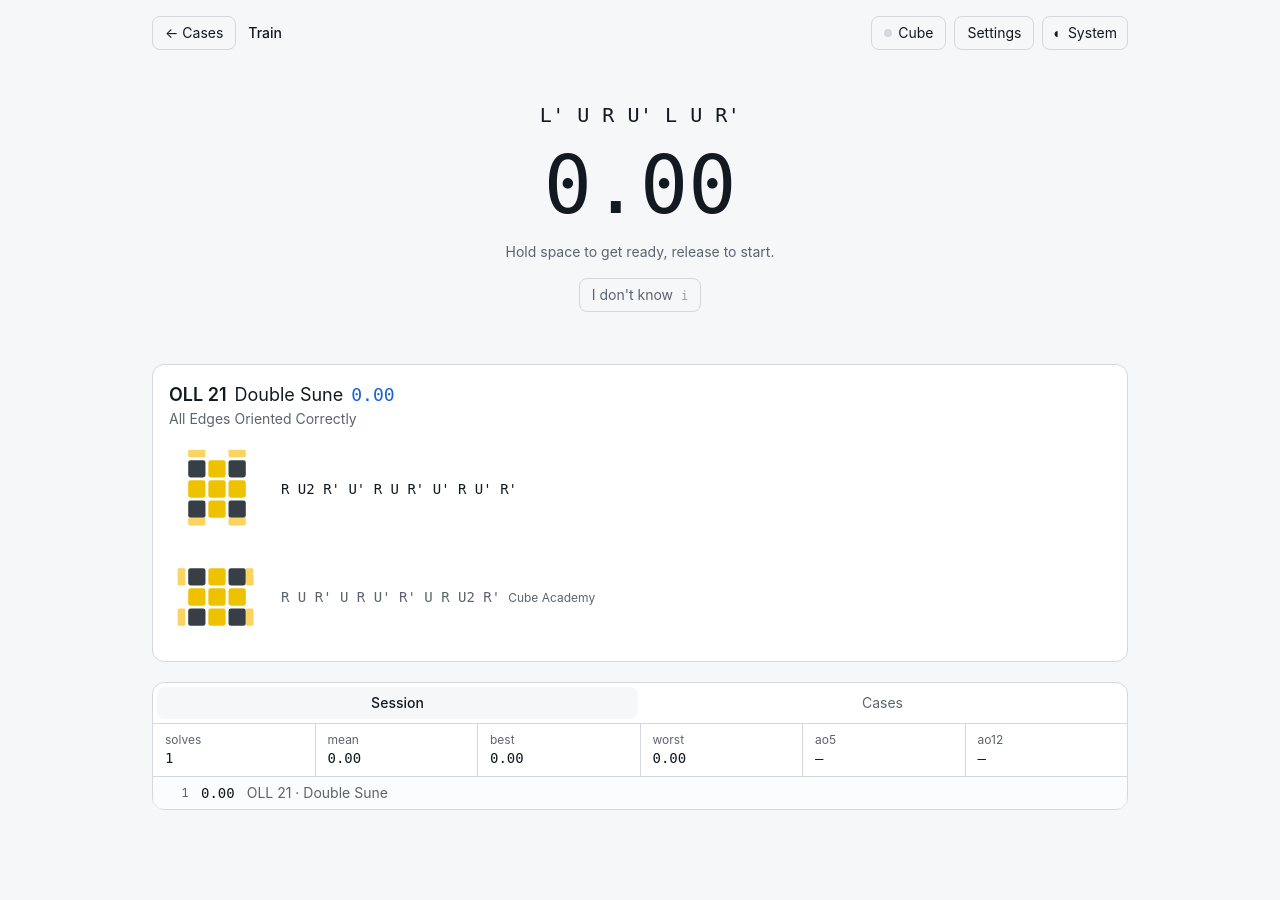
Test: PracticeView › disarms the reset when the settings panel closes
The width and height of the screenshot is (1280, 900).
Click the button with test id "settings-toggle": (994, 33) [954, 16, 1034, 50]
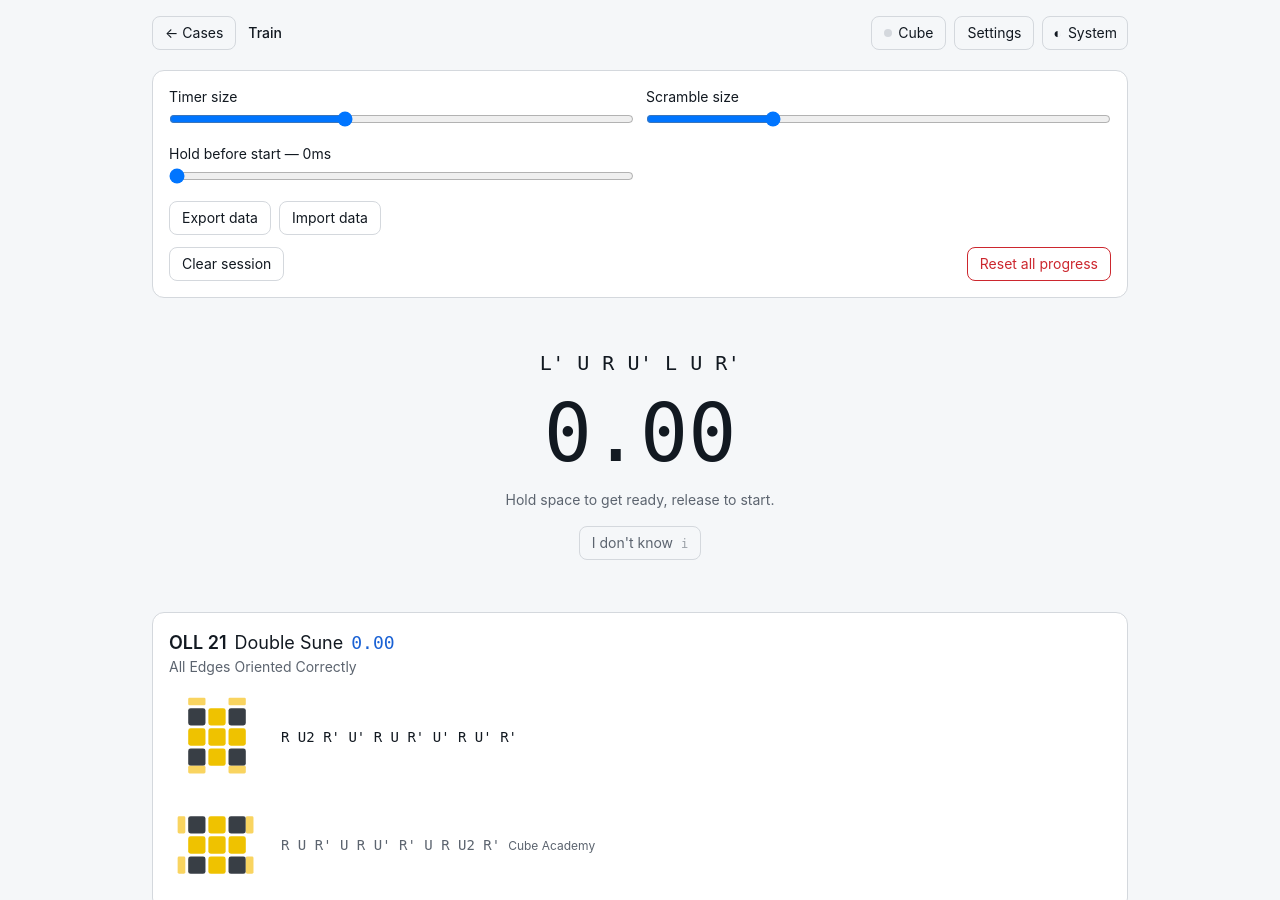
Click the button with test id "reset-progress": (1039, 264) [967, 247, 1111, 281]
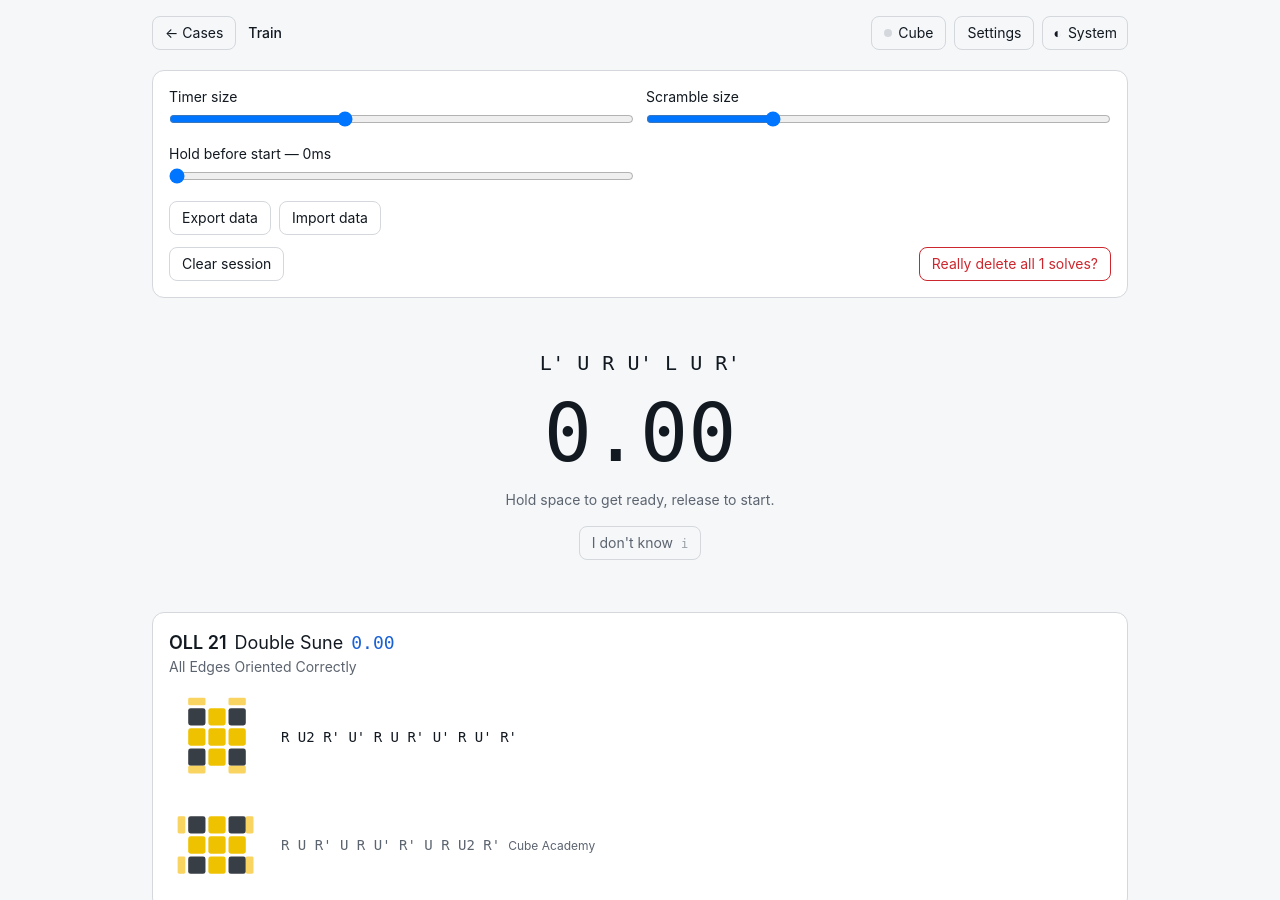
Click the button with test id "settings-toggle": (994, 33) [954, 16, 1034, 50]
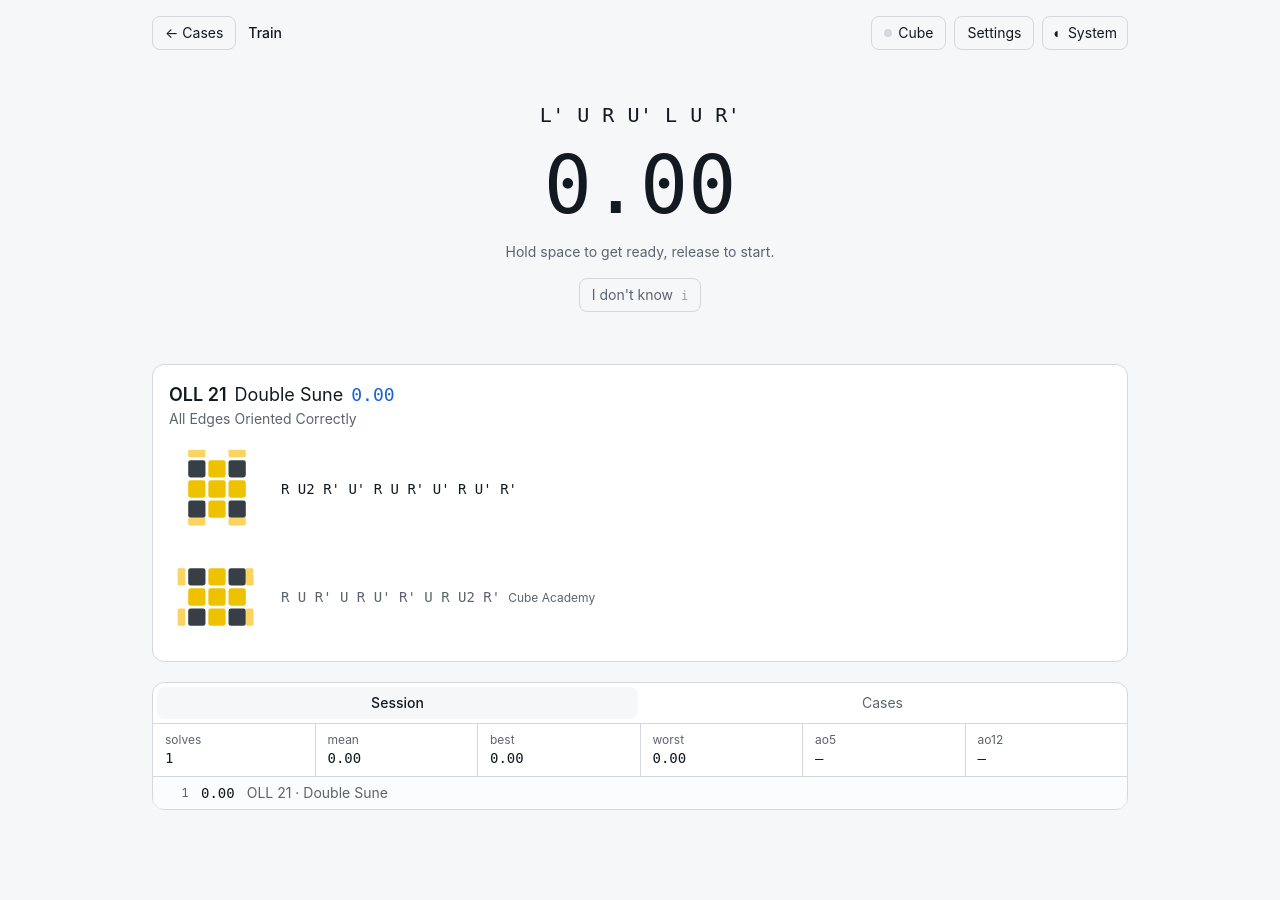
Click the button with test id "settings-toggle": (994, 33) [954, 16, 1034, 50]
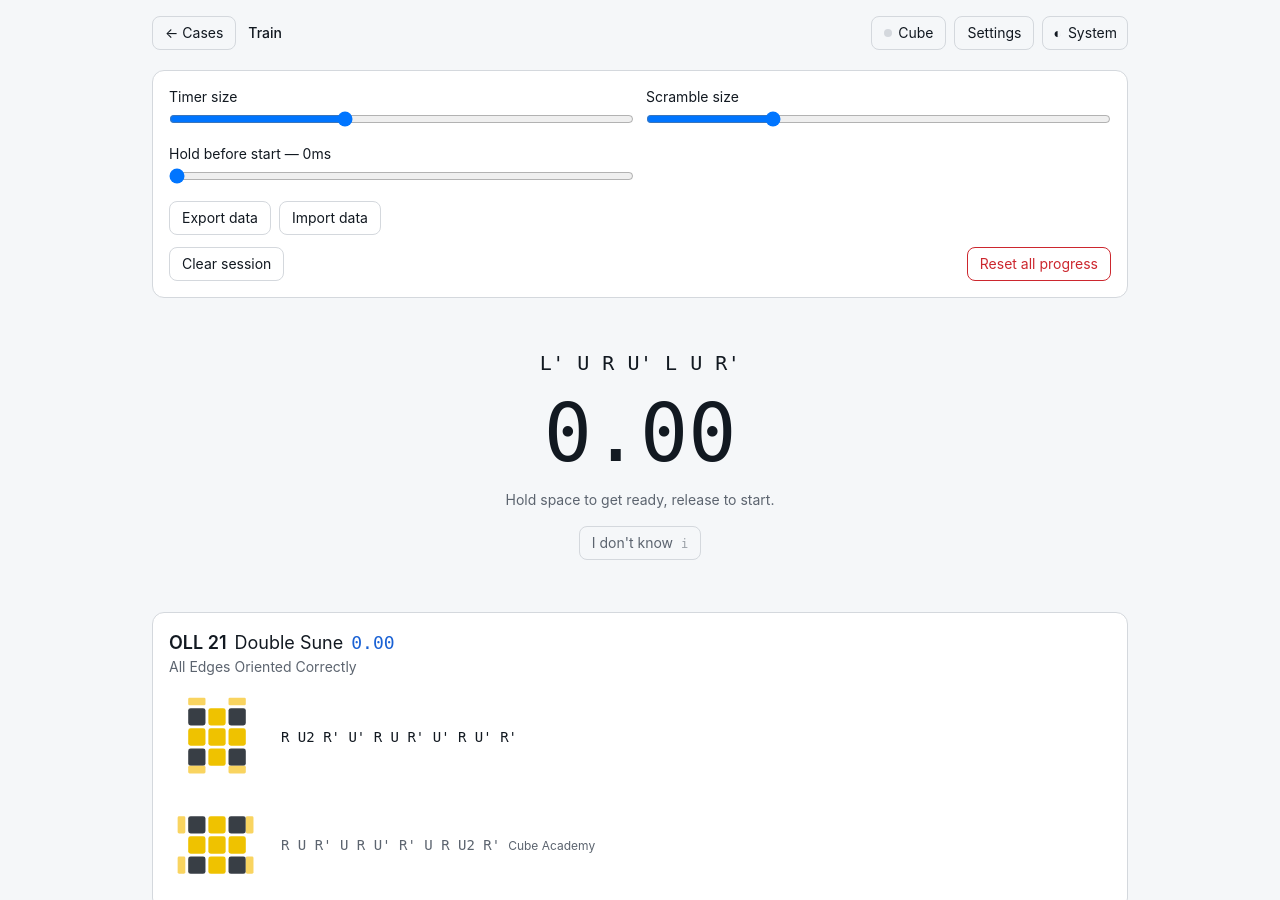
Result: the button with test id "reset-progress" reads "Reset all progress" at [967, 247, 1111, 281]
